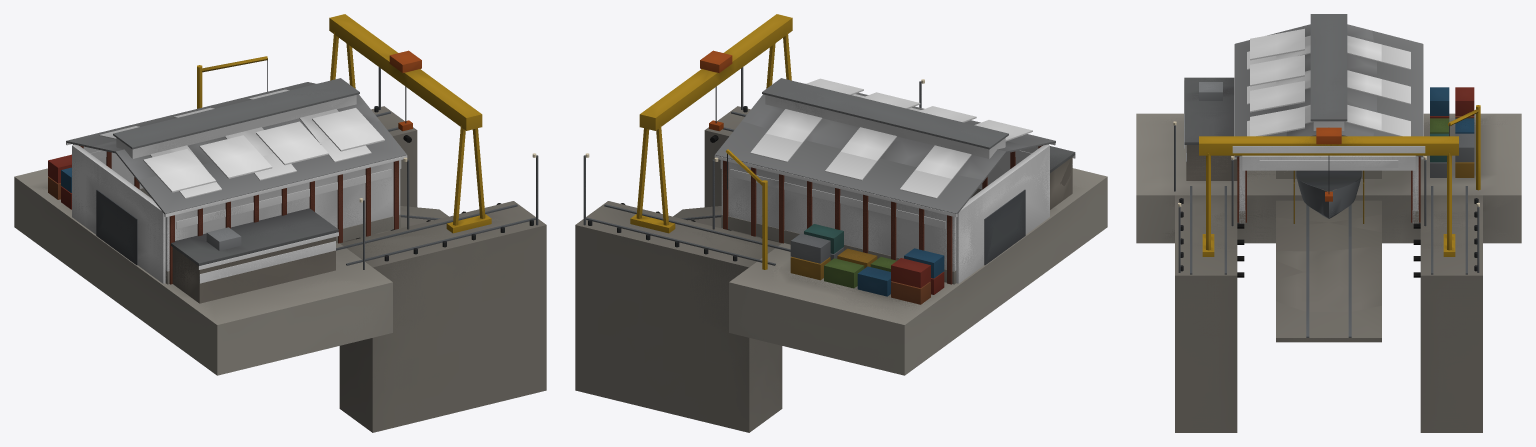
The model's file is naval-shipyard.glb.
3 renders of one model, left to right at view 1: azimuth 30°, elevation 25°; view 2: azimuth 150°, elevation 25°; view 3: azimuth 270°, elevation 25°, orthographic. The views are drawn at different scales.
Visible parts, largest first — view 1: shipyard_body, shipyard_body_l1, shipyard_gantry_l1, shipyard_gantry, shipyard_trolley_l1; view 2: shipyard_body, shipyard_body_l1, shipyard_gantry_l1, shipyard_gantry; view 3: shipyard_body, shipyard_body_l1, shipyard_gantry_l1, shipyard_gantry, shipyard_hull, shipyard_hull_l1, shipyard_trolley_l1, shipyard_trolley.
Boxes of the visible parts, x1=… form: shipyard_body: x1=14, y1=57, x2=546, y2=432; shipyard_body_l1: x1=14, y1=56, x2=546, y2=432; shipyard_gantry_l1: x1=329, y1=14, x2=491, y2=233; shipyard_gantry: x1=329, y1=14, x2=490, y2=232; shipyard_trolley_l1: x1=390, y1=50, x2=421, y2=131; shipyard_body: x1=575, y1=67, x2=1107, y2=432; shipyard_body_l1: x1=575, y1=68, x2=1107, y2=432; shipyard_gantry_l1: x1=630, y1=14, x2=792, y2=233; shipyard_gantry: x1=631, y1=14, x2=792, y2=233; shipyard_body: x1=1136, y1=14, x2=1521, y2=432; shipyard_body_l1: x1=1136, y1=14, x2=1521, y2=432; shipyard_gantry_l1: x1=1199, y1=136, x2=1458, y2=256; shipyard_gantry: x1=1199, y1=136, x2=1458, y2=256; shipyard_hull: x1=1293, y1=170, x2=1364, y2=223; shipyard_hull_l1: x1=1293, y1=170, x2=1364, y2=223; shipyard_trolley_l1: x1=1316, y1=127, x2=1341, y2=201; shipyard_trolley: x1=1316, y1=129, x2=1341, y2=201.
Size of the model in its own units: 4 by 3.13 by 4.
